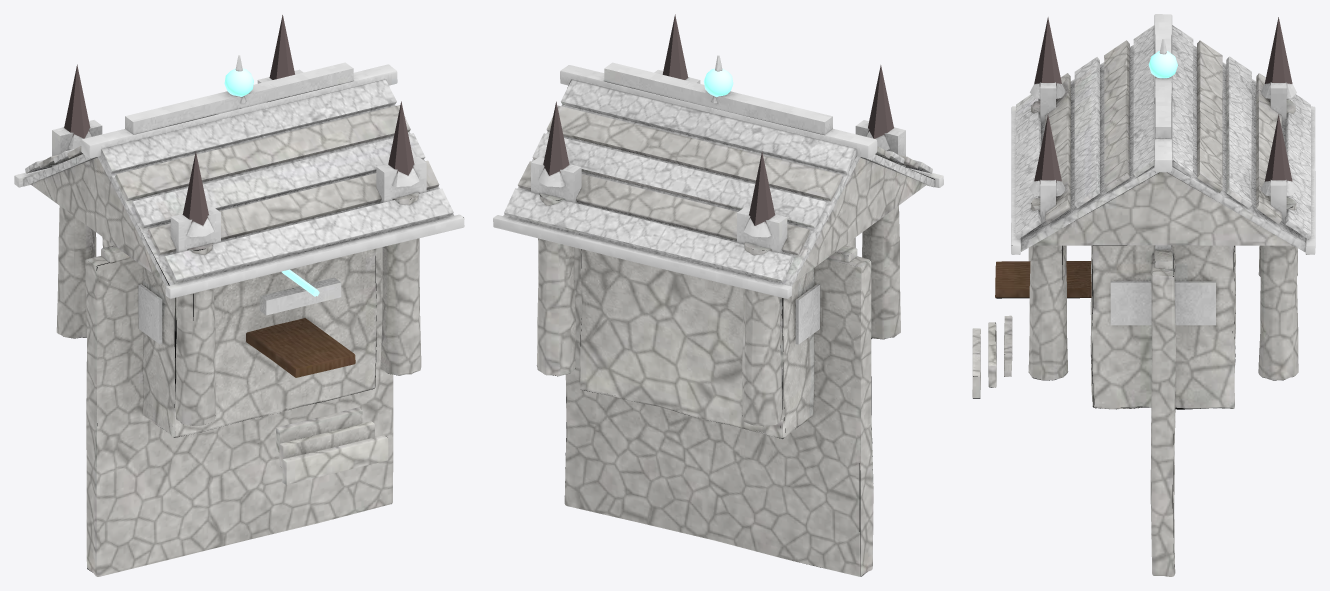
The model's file is barracks_melee.glb.
The picture shows the model from 3 angles, left to right: view 1: azimuth 30°, elevation 25°; view 2: azimuth 150°, elevation 25°; view 3: azimuth 270°, elevation 25°; orthographic projection. The views are drawn at different scales.
Parts seen in each view (by area): view 1: body, extra_duskward, glow; view 2: body, extra_duskward, glow; view 3: body, extra_duskward, glow.
Boxes of the visible parts, box(x1,y1,x2,y2) form: body: box(14, 55, 464, 576); extra_duskward: box(64, 15, 414, 225); glow: box(224, 68, 319, 296); body: box(493, 55, 943, 576); extra_duskward: box(543, 14, 893, 225); glow: box(703, 68, 733, 97); body: box(972, 14, 1315, 576); extra_duskward: box(1034, 17, 1292, 183); glow: box(1148, 51, 1177, 78).
Size of the model in its own units: 6.59 by 9.84 by 6.52.
3 materials, 1 textured.
